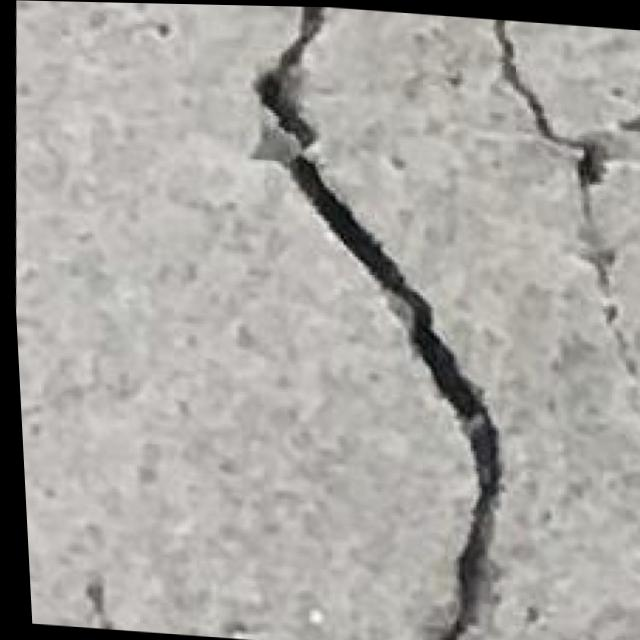Crack: (206, 4, 547, 640), (465, 19, 640, 405)
